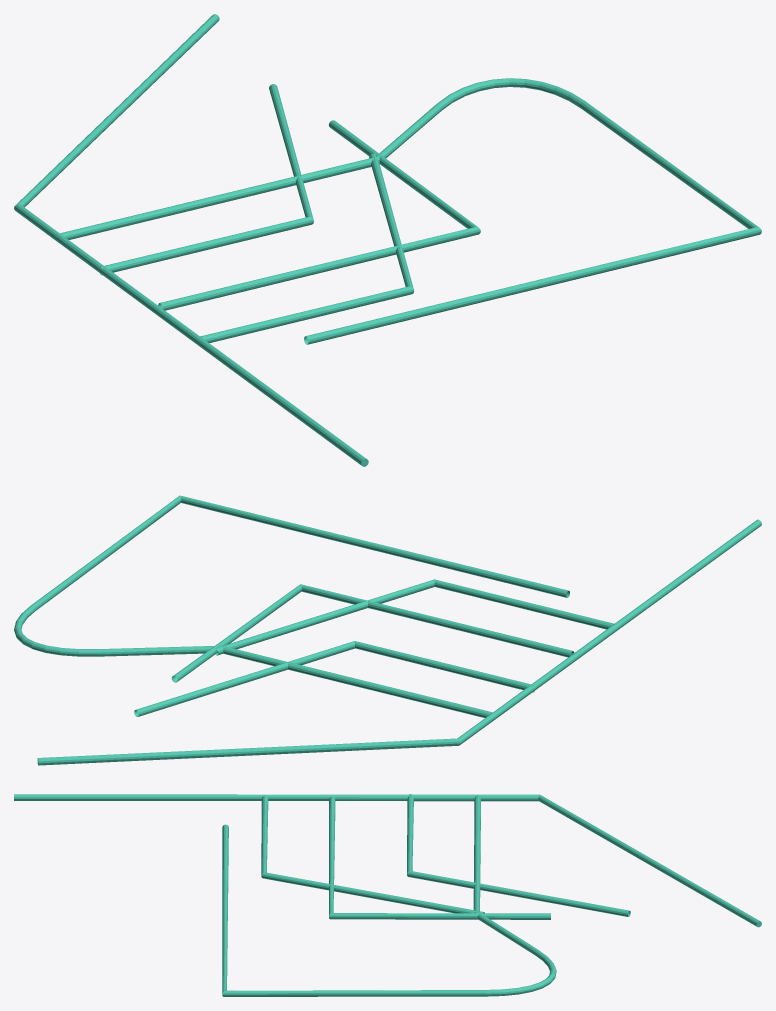
Rendered from dingwei.glb.
The picture shows the model from 3 angles, top to bottom: view 1: azimuth 30°, elevation 25°; view 2: azimuth 150°, elevation 25°; view 3: azimuth 270°, elevation 25°; orthographic projection. The views are drawn at different scales.
Parts seen in each view (by area): view 1: 平面.001, 平面; view 2: 平面.001, 平面; view 3: 平面.001, 平面.
Boxes of the visible parts, x1,y1,x2,y2 form: 平面.001: (60, 78, 761, 344); 平面: (14, 14, 368, 466); 平面.001: (14, 495, 613, 717); 平面: (37, 519, 761, 765); 平面.001: (222, 794, 630, 996); 平面: (14, 794, 761, 927).
Bounding box in the file's own units: 4.64 × 0.0656 × 7.38.
